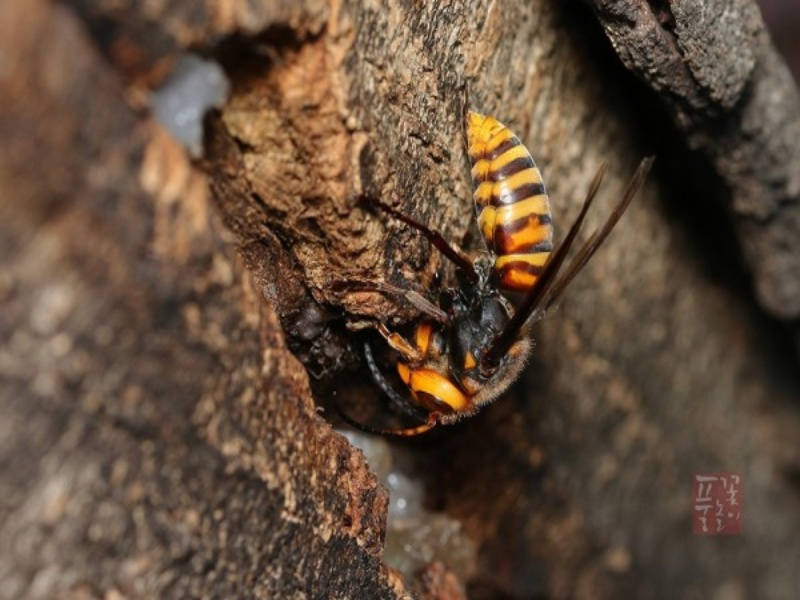asian_giant_hornet: (364, 105, 569, 438)
